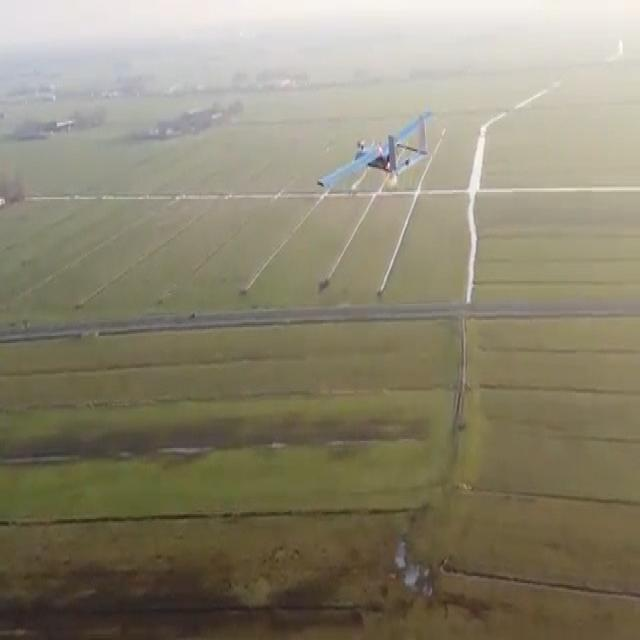iha: (350, 143, 400, 164)
